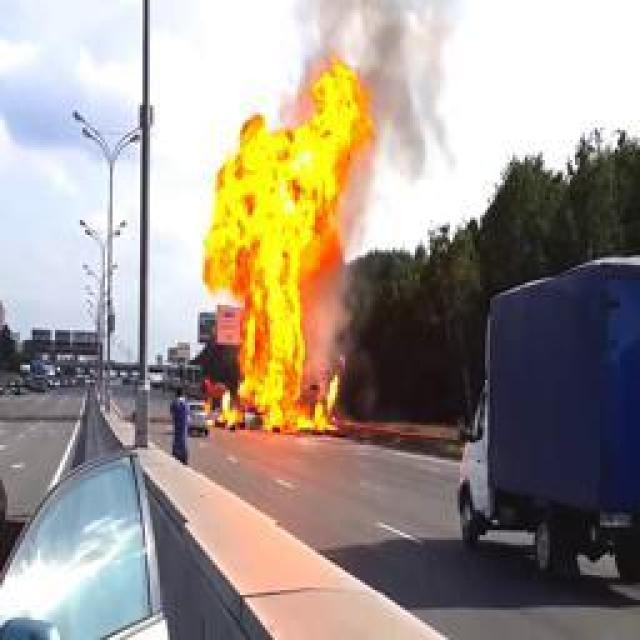Fire: (200, 56, 378, 432)
